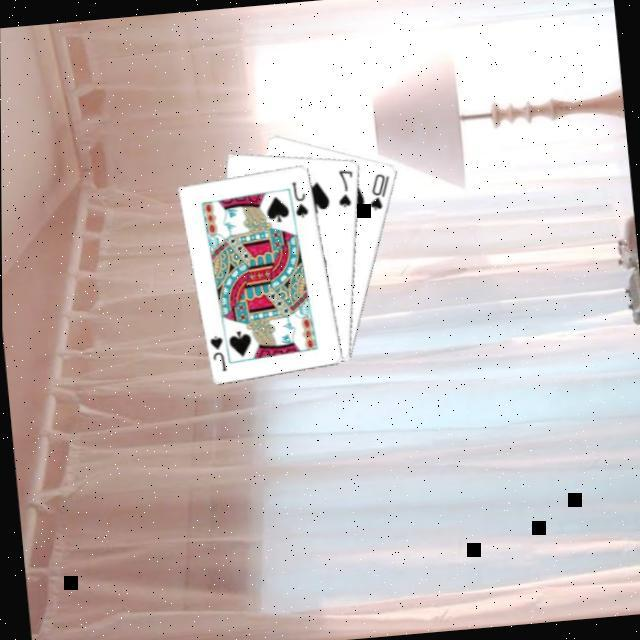10S: (362, 167, 394, 211)
7S: (331, 164, 357, 208)
JS: (287, 175, 311, 219), (205, 330, 227, 373)
